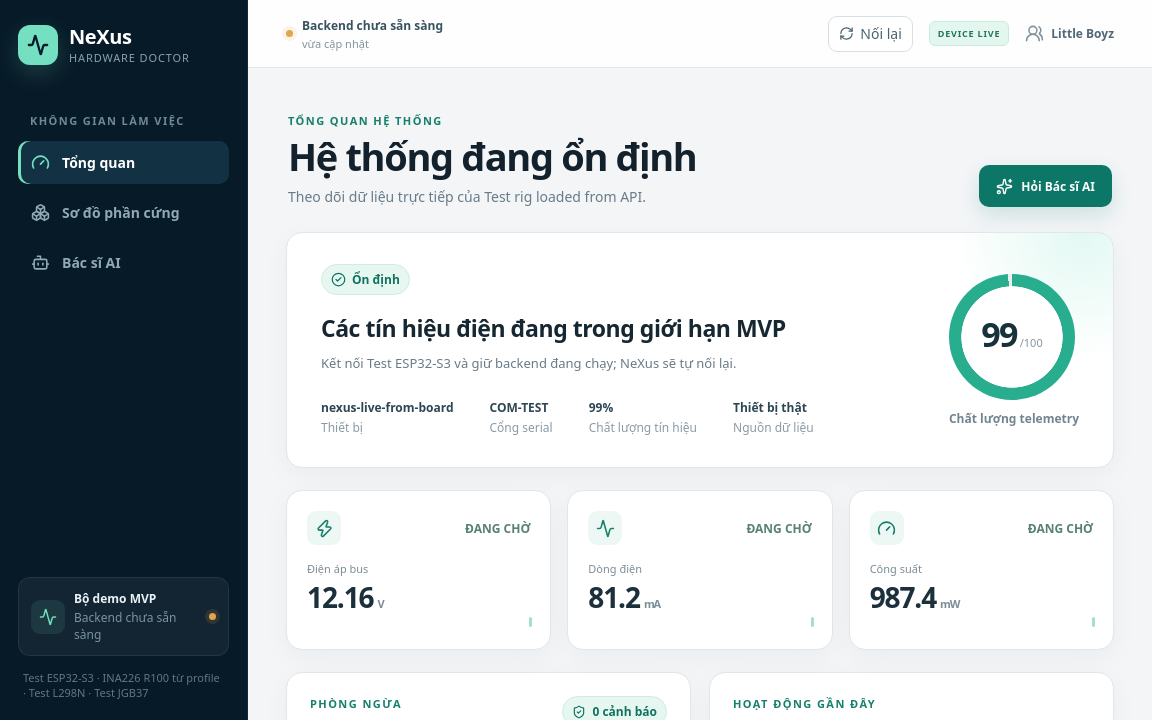
Test: NeXus application routes › navigates from the dashboard to the hardware graph
This screenshot has width=1152, height=720.
Click the link "Sơ đồ phần cứng": (105, 212) [31,203,180,222]
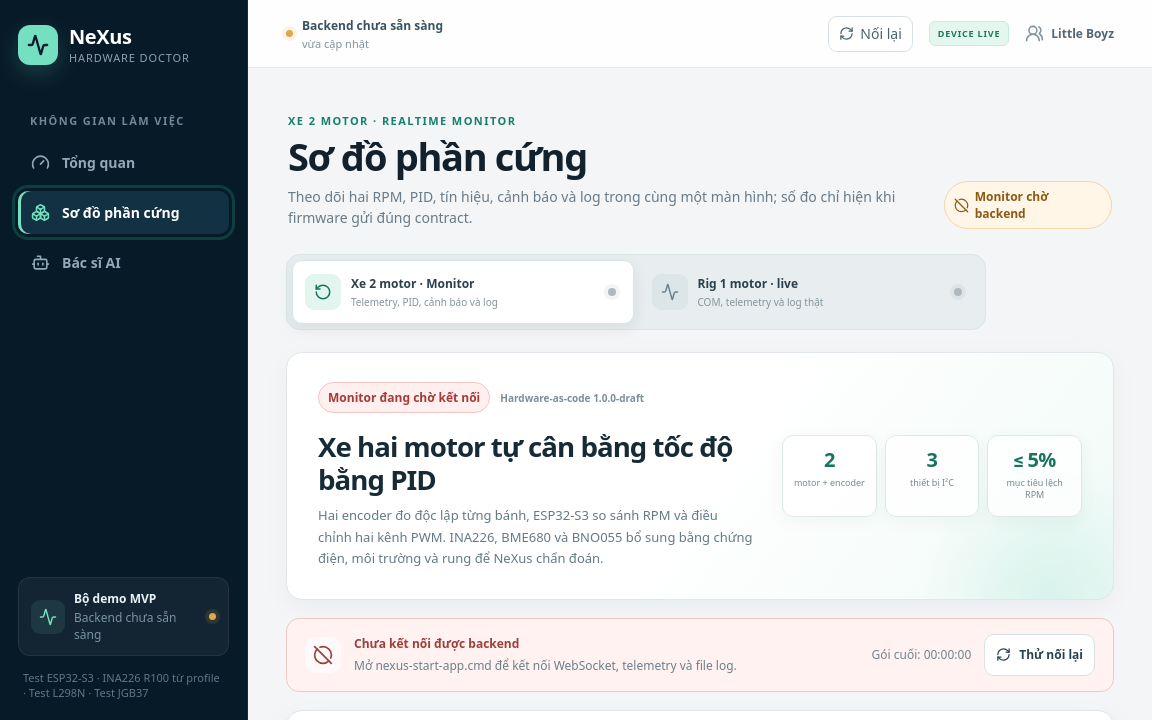
Expected: the heading "Sơ đồ phần cứng" is shown, [288,130,587,182]
